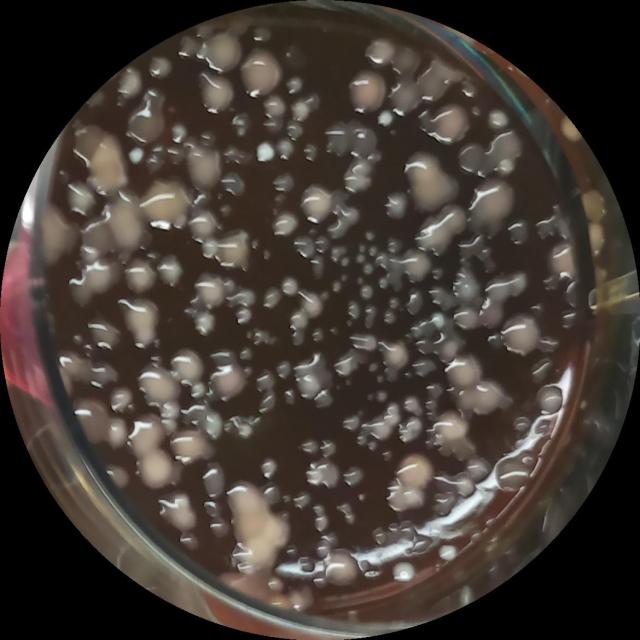Bacillus: (140, 179, 193, 233), (240, 46, 284, 102), (471, 177, 519, 226), (121, 294, 163, 349), (182, 144, 224, 196), (233, 531, 279, 578), (136, 364, 182, 409), (500, 312, 542, 358), (200, 30, 243, 74), (346, 70, 387, 114), (196, 71, 237, 115), (128, 414, 167, 460), (430, 102, 470, 146), (319, 548, 361, 589), (138, 449, 177, 493), (441, 353, 482, 394), (169, 427, 209, 468), (396, 453, 436, 493), (403, 147, 442, 188), (80, 258, 119, 299), (168, 347, 206, 388), (214, 228, 251, 270), (298, 182, 334, 225), (544, 240, 580, 283), (434, 407, 471, 445), (364, 33, 400, 72), (193, 271, 228, 311), (211, 363, 247, 401), (122, 259, 156, 296), (410, 177, 444, 214), (154, 252, 187, 290), (188, 210, 220, 248), (381, 339, 410, 372)
Staphylococcus: (85, 129, 131, 197), (102, 194, 150, 254), (391, 558, 418, 584), (254, 139, 278, 167), (126, 143, 147, 168), (375, 108, 396, 130), (428, 310, 448, 332)
